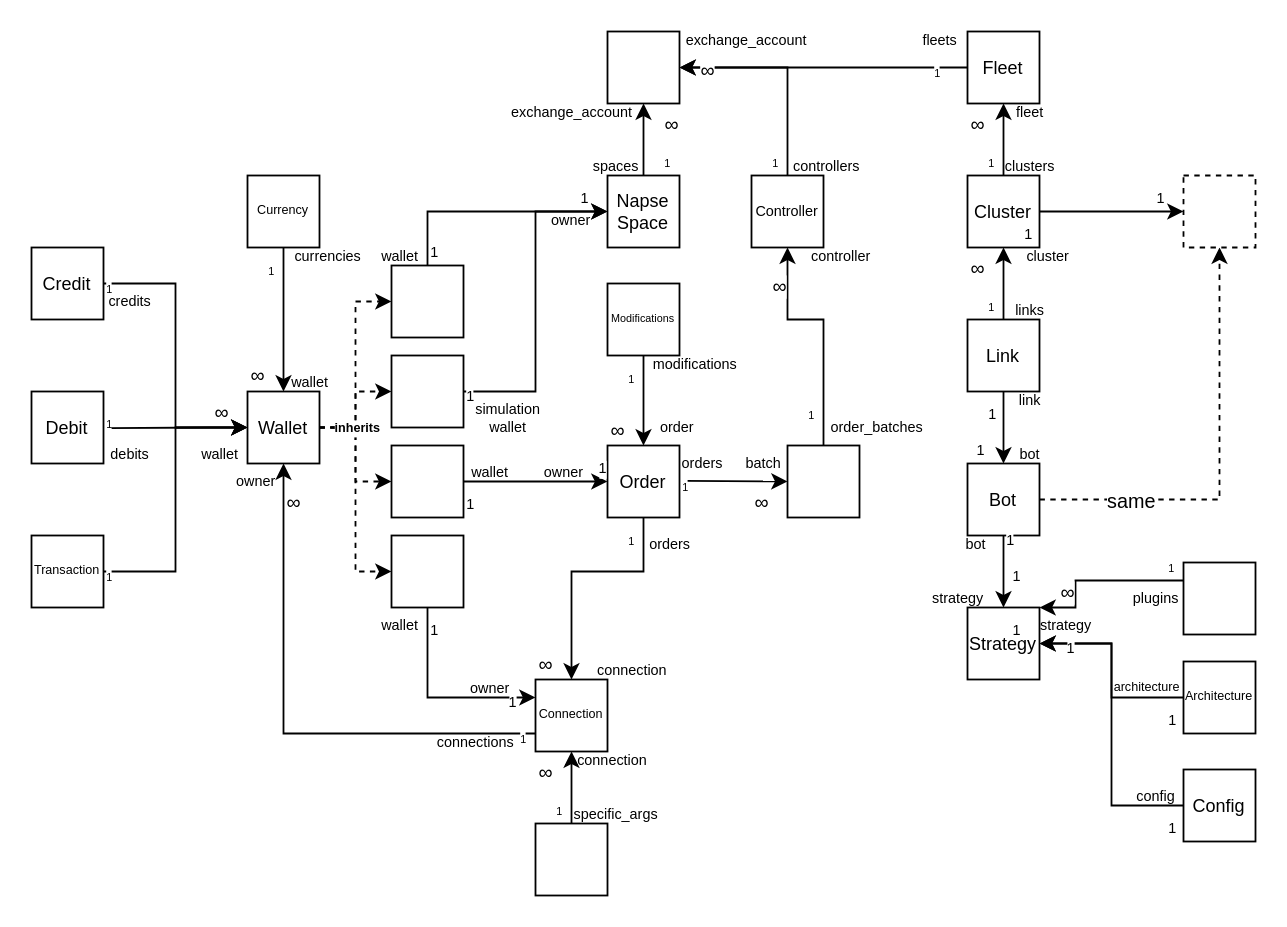
This 1287x927 diagram has some shape labels left out. The box of each missing label's shape, as (x1, y1, x2, y2) in pixels:
(template) Bot: (1182, 174, 1256, 248)
Connection Specific Args: (534, 822, 608, 896)
Connection Wallet: (390, 534, 464, 608)
Exchange account: (606, 30, 680, 104)
Order Batch: (786, 444, 860, 518)
Order Wallet: (390, 444, 464, 518)
Plugin: (1182, 561, 1256, 634)
Space Simulation Wallet: (390, 354, 464, 428)
Space Wallet: (390, 264, 464, 338)
